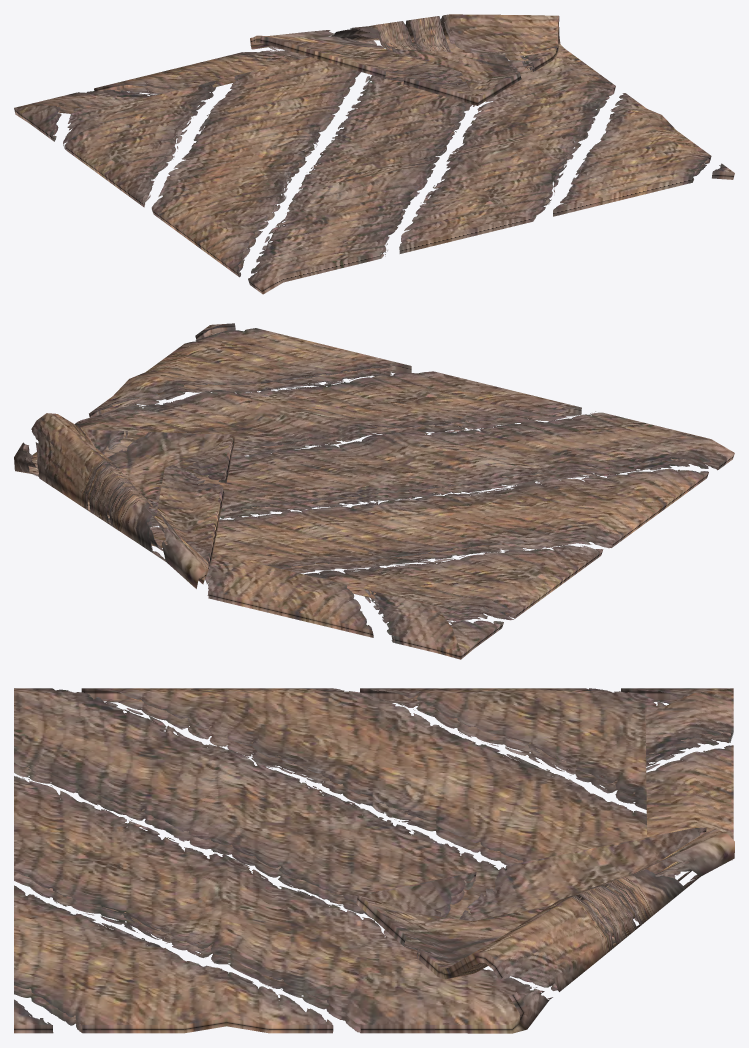
The picture shows the model from 3 angles, top to bottom: view 1: azimuth 30°, elevation 25°; view 2: azimuth 150°, elevation 25°; view 3: azimuth 270°, elevation 25°; orthographic projection. The views are drawn at different scales.
Parts seen in each view (by area): view 1: SM_DR_Rope_02_LOD0; view 2: SM_DR_Rope_02_LOD0; view 3: SM_DR_Rope_02_LOD0.
Boxes of the visible parts, x1,y1,x2,y2 form: SM_DR_Rope_02_LOD0: (14, 14, 734, 294); SM_DR_Rope_02_LOD0: (14, 323, 734, 659); SM_DR_Rope_02_LOD0: (14, 688, 734, 1033).
Size of the model in its own units: 2.24 by 0.2209 by 2.02.
